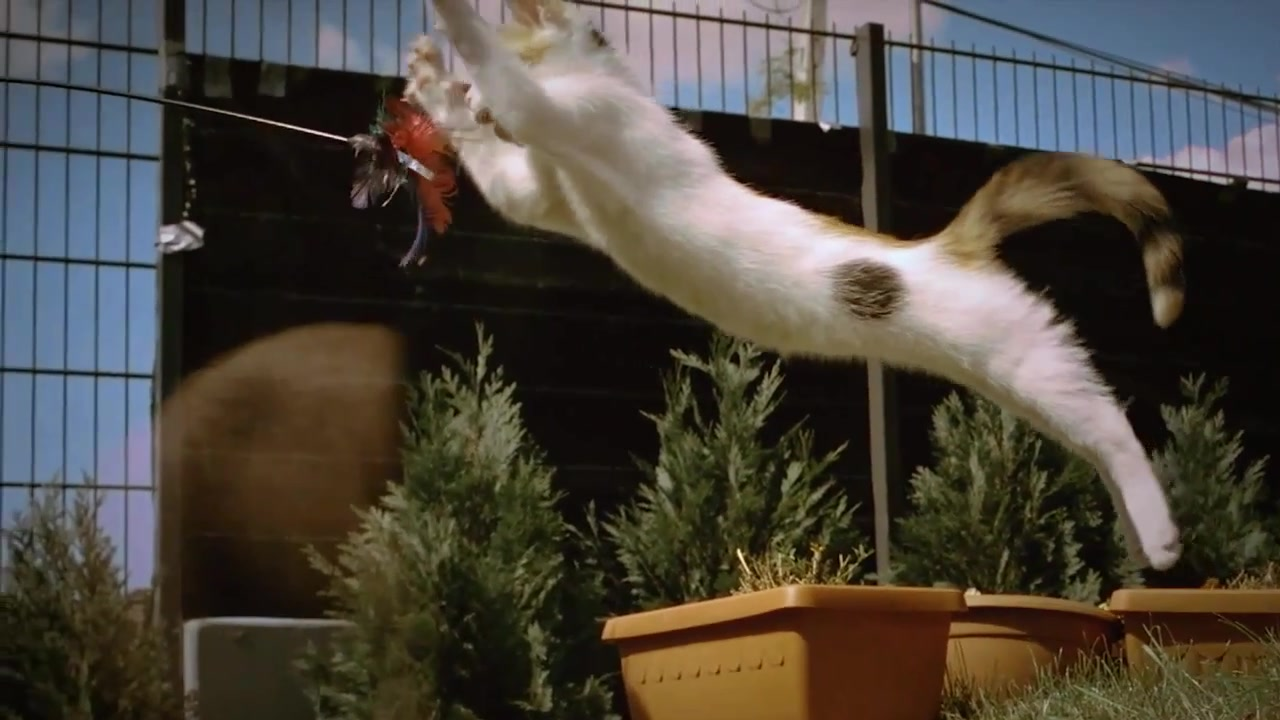cat: (399, 2, 1189, 567)
